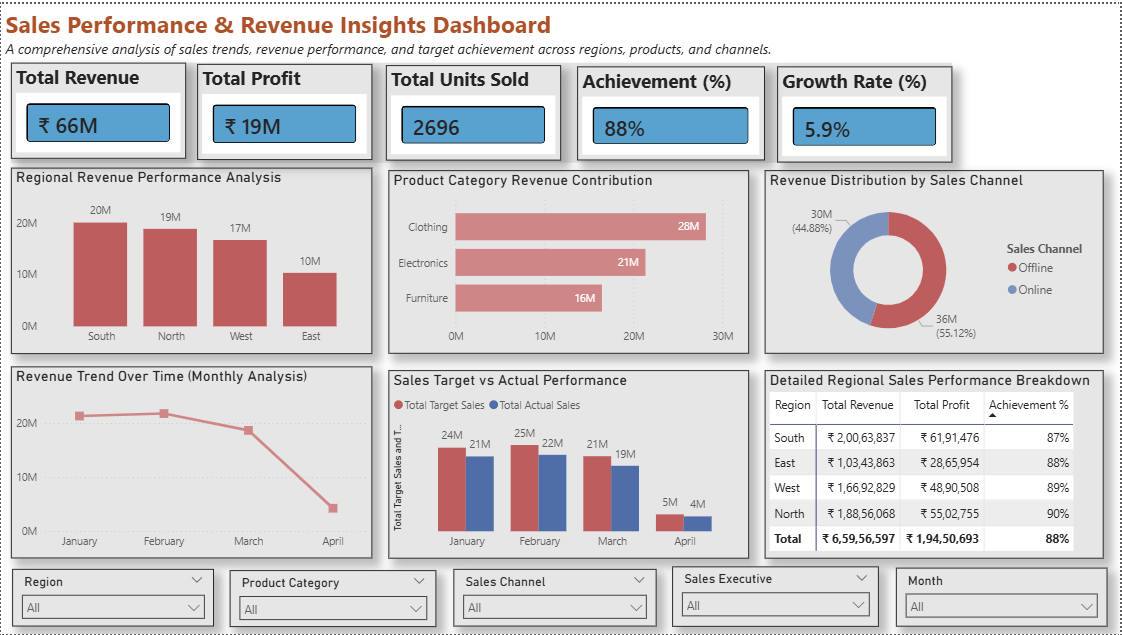

The dashboard page shown, as its layout file describes it:
{"tool":"powerbi","page":{"name":"Page 1","canvas":[1280,720],"ordinal":0},"visuals":[{"type":"textbox","box":[0,0,902.9,71.4],"z":0},{"type":"cardVisual","title":"Total Revenue","fields":{"Data":["Sales Data.Total Revenue"]},"box":[11,67.2,200.3,109.8],"z":0,"group":"g1"},{"type":"cardVisual","title":"Total Profit","fields":{"Data":["Sales Data.Total Profit"]},"box":[223.7,68.6,200.3,109.8],"z":1000,"group":"g1"},{"type":"clusteredColumnChart","title":"Regional Revenue Performance Analysis","fields":{"Category":["Sales Data.Region"],"Y":["Sales Data.Total Revenue"]},"box":[11,186.6,413,212.7],"z":1000},{"type":"cardVisual","title":"Total Units Sold","fields":{"Data":["Sales Data.Total Units"]},"box":[439.1,69.9,200.3,108.4],"z":2000,"group":"g1"},{"type":"clusteredBarChart","title":"Product Category Revenue Contribution","fields":{"Category":["Sales Data.Product Category"],"Y":["Sales Data.Total Revenue"]},"box":[442.5,189.4,411.7,209.9],"z":2000},{"type":"cardVisual","title":"Achievement (%)","fields":{"Data":["Sales Data.Achievement Percentage"]},"box":[658.7,71.3,214.1,107],"z":3000,"group":"g1"},{"type":"lineChart","title":"Revenue Trend Over Time (Monthly Analysis)","fields":{"Y":["Sales Data.Total Revenue"],"Category":["Sales Data.Date.Variation.Date Hierarchy.Month"]},"box":[11,414.4,413,219.6],"z":3000},{"type":"cardVisual","title":"Growth Rate (%)","fields":{"Data":["Sales Data.Growth"]},"box":[886.5,71.3,200.3,109.8],"z":4000,"group":"g1"},{"type":"donutChart","title":"Revenue Distribution by Sales Channel","fields":{"Category":["Sales Data.Sales Channel"],"Y":["Sales Data.Total Revenue"]},"box":[872.7,189.4,387,209.9],"z":4000},{"type":"clusteredColumnChart","title":"Sales Target vs Actual Performance","fields":{"Category":["Sales Data.Date.Variation.Date Hierarchy.Month"],"Y":["Sales Data.Total Target Sales","Sales Data.Total Actual Sales"]},"box":[442.5,418.5,411.7,215.4],"z":5000},{"type":"pivotTable","title":"Detailed Regional Sales Performance Breakdown","fields":{"Rows":["Sales Data.Region"],"Values":["Sales Data.Total Revenue","Sales Data.Total Profit","Sales Data.Achievement Percentage"]},"box":[872.7,418.5,387,215.4],"z":6000},{"type":"group","id":"g1","title":"Group 2","box":[11,67.2,1075.8,113.9],"z":7000},{"type":"slicer","fields":{"Values":["Sales Data.Region"]},"box":[12.3,646.3,230.5,65.9],"z":8000},{"type":"slicer","fields":{"Values":["Sales Data.Product Category"]},"box":[261.8,647.7,236,64.5],"z":9000},{"type":"slicer","fields":{"Values":["Sales Data.Sales Channel"]},"box":[516.6,646.3,231.9,65.9],"z":10000},{"type":"slicer","fields":{"Values":["Sales Data.Sales Executive"]},"box":[767.4,643.6,236,68.6],"z":11000},{"type":"slicer","fields":{"Values":["Sales Data.Date.Variation.Date Hierarchy.Month"]},"box":[1022.3,644.9,241.5,67.2],"z":12000}]}

Visuals, with their boxes in screenshot pixels (x1, y1, x2, y2), scaled from the page's 1280x720 canvas onto the 1122x635 screenshot:
textbox: box(0, 0, 791, 63)
"Total Revenue" cardVisual: box(10, 59, 185, 156)
"Total Profit" cardVisual: box(196, 61, 372, 157)
"Regional Revenue Performance Analysis" clusteredColumnChart: box(10, 165, 372, 352)
"Total Units Sold" cardVisual: box(385, 62, 560, 157)
"Product Category Revenue Contribution" clusteredBarChart: box(388, 167, 749, 352)
"Achievement (%)" cardVisual: box(577, 63, 765, 157)
"Revenue Trend Over Time (Monthly Analysis)" lineChart: box(10, 365, 372, 559)
"Growth Rate (%)" cardVisual: box(777, 63, 953, 160)
"Revenue Distribution by Sales Channel" donutChart: box(765, 167, 1104, 352)
"Sales Target vs Actual Performance" clusteredColumnChart: box(388, 369, 749, 559)
"Detailed Regional Sales Performance Breakdown" pivotTable: box(765, 369, 1104, 559)
"Group 2" group: box(10, 59, 953, 160)
slicer - Sales Data.Region: box(11, 570, 213, 628)
slicer - Sales Data.Product Category: box(229, 571, 436, 628)
slicer - Sales Data.Sales Channel: box(453, 570, 656, 628)
slicer - Sales Data.Sales Executive: box(673, 568, 880, 628)
slicer - Sales Data.Date.Variation.Date Hierarchy.Month: box(896, 569, 1108, 628)
